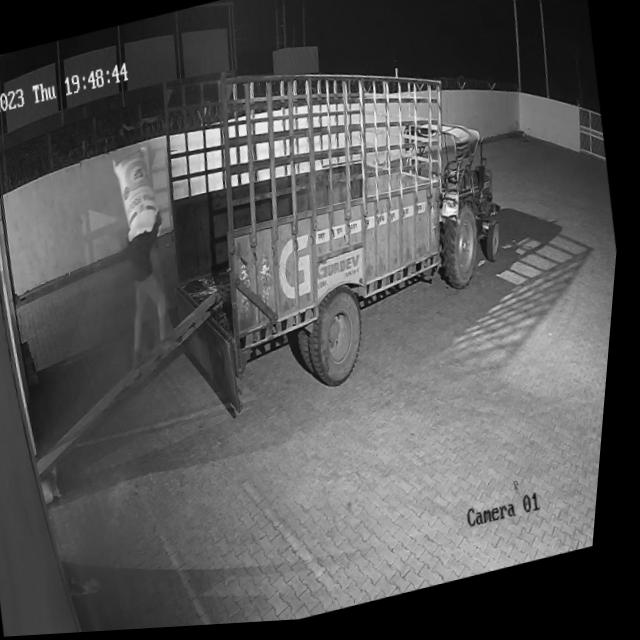sack: (109, 146, 170, 247)
